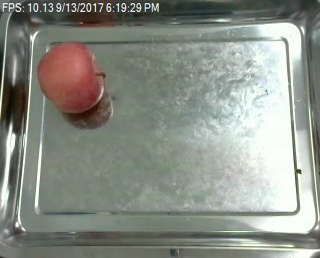Apple: (37, 40, 106, 117)
